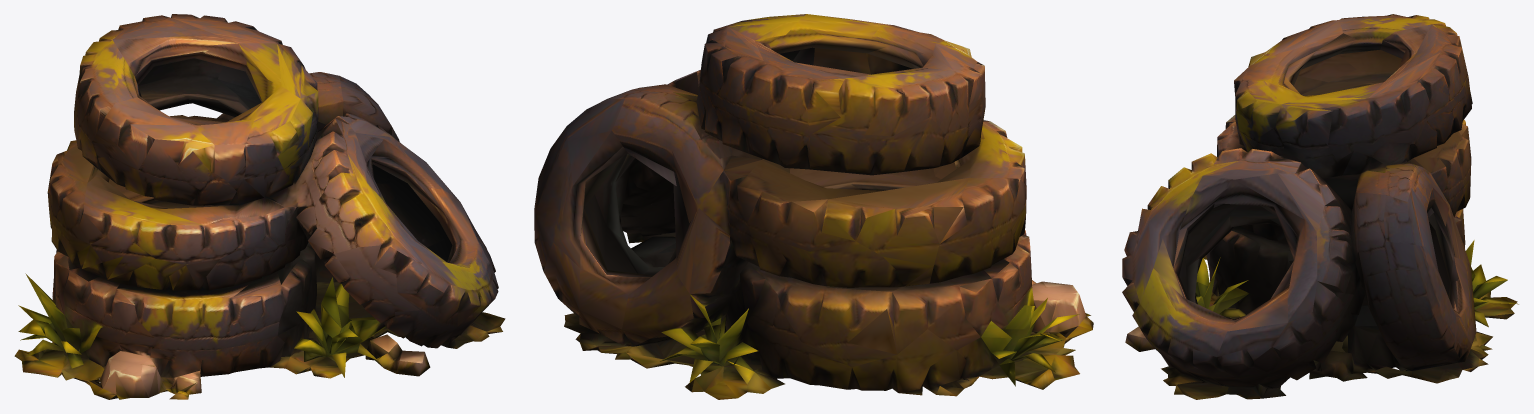
Rendered from CC_prop_tire+stack+3d+model.fbx.
3 renders of one model, left to right at view 1: azimuth 30°, elevation 25°; view 2: azimuth 150°, elevation 25°; view 3: azimuth 270°, elevation 25°, orthographic. The views are drawn at different scales.
Visible parts, largest first — view 1: CC_prop_tire+stack+3d+model_LOD0; view 2: CC_prop_tire+stack+3d+model_LOD0; view 3: CC_prop_tire+stack+3d+model_LOD0.
Boxes of the visible parts, left/top/right/bottom form: CC_prop_tire+stack+3d+model_LOD0: left=14, top=14, right=505, bottom=399; CC_prop_tire+stack+3d+model_LOD0: left=534, top=14, right=1093, bottom=399; CC_prop_tire+stack+3d+model_LOD0: left=1122, top=14, right=1518, bottom=399.
Size of what is drawn, in the model's own units: 2.24 by 1.31 by 1.87.
